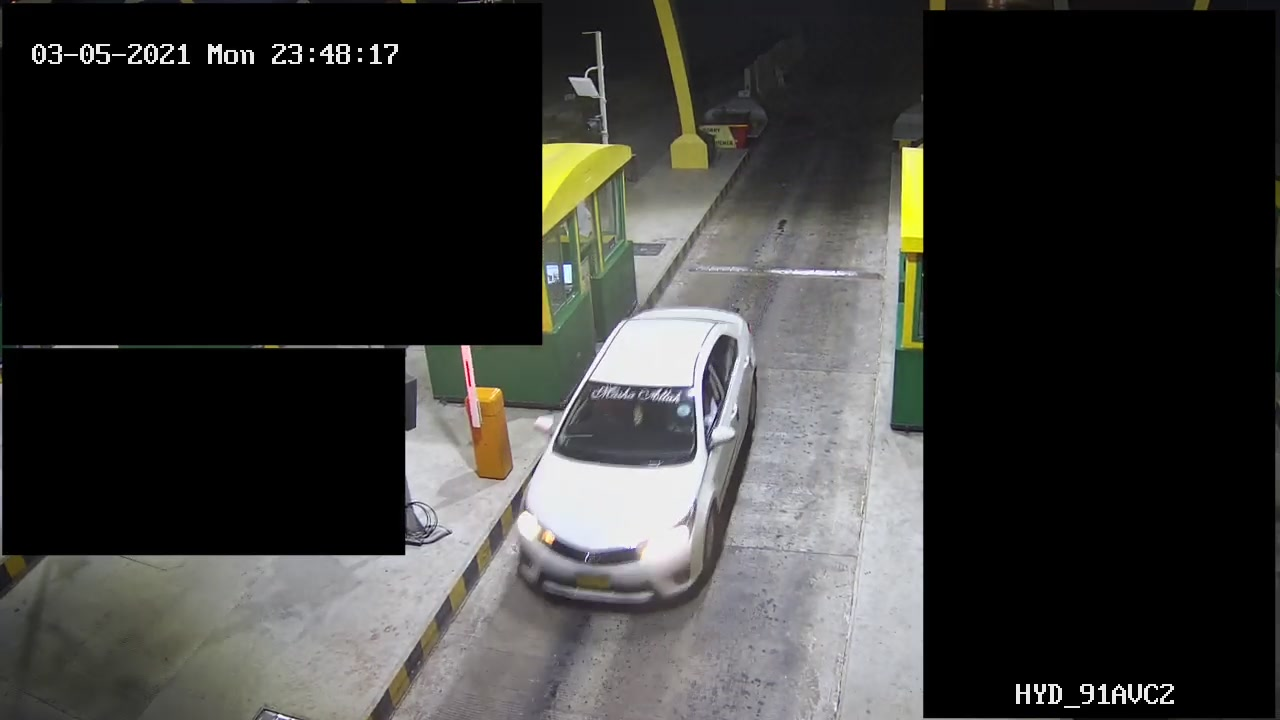F1: (498, 295, 777, 624)
